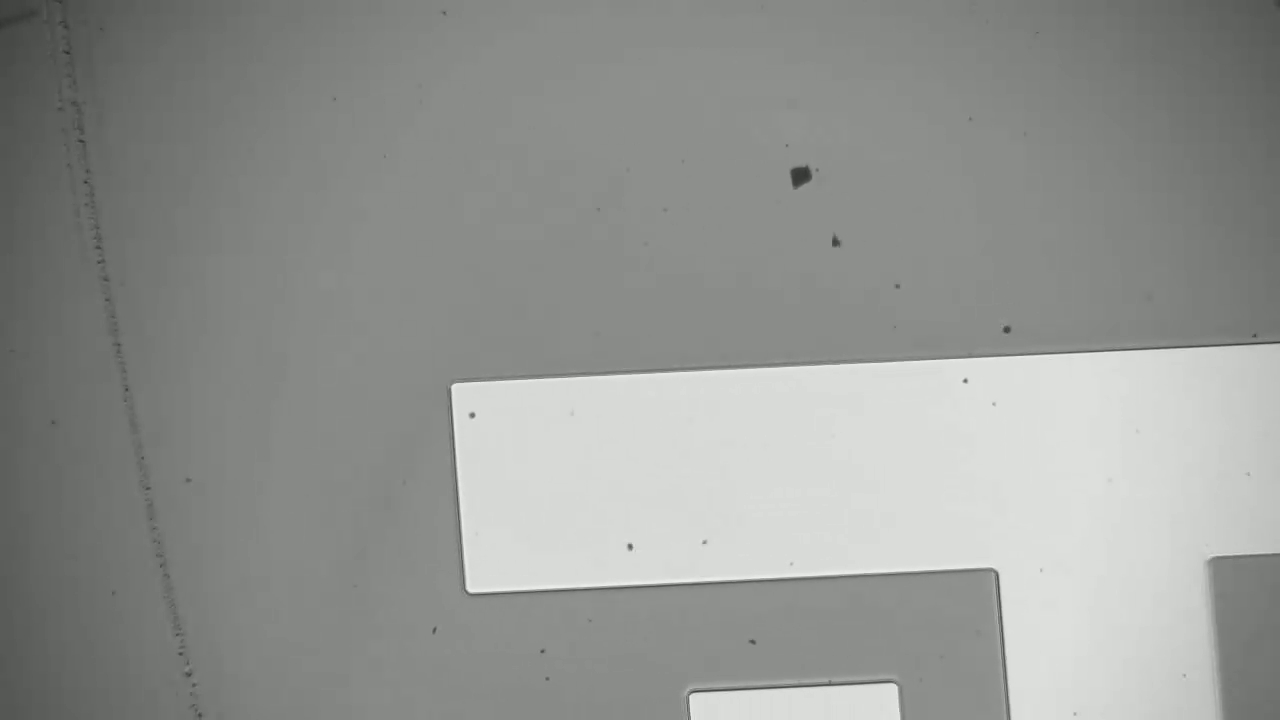scratch: (54, 11, 217, 720)
